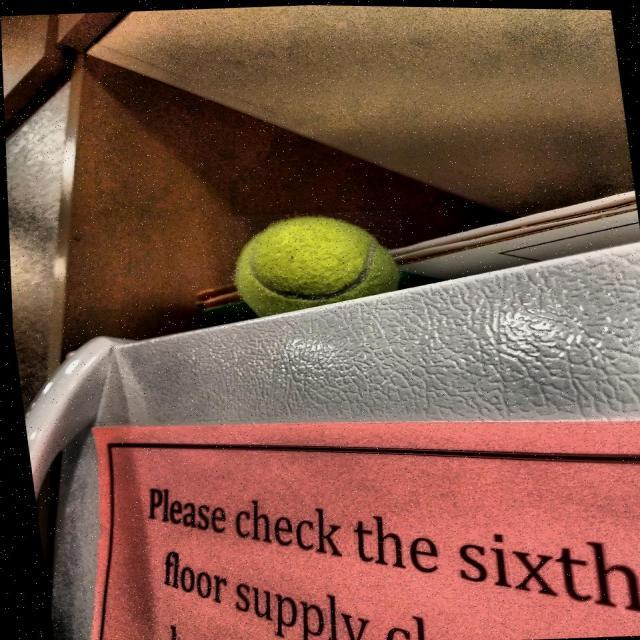tennis-ball: (216, 206, 412, 324)
